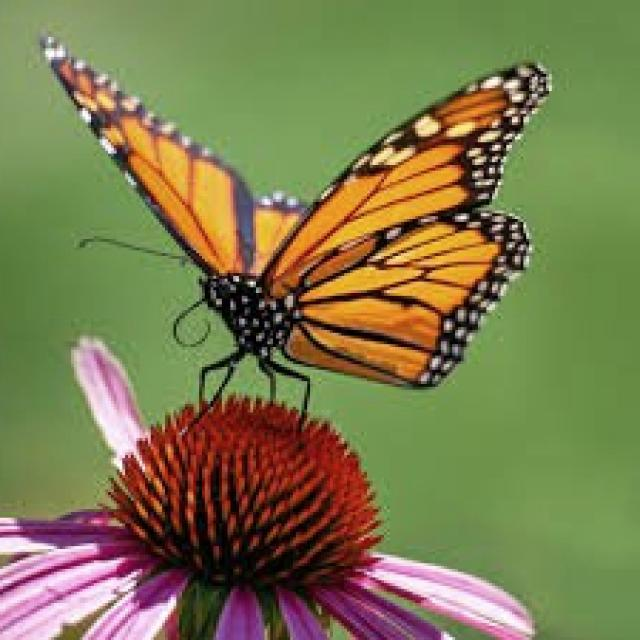butterfly: (43, 37, 552, 395)
